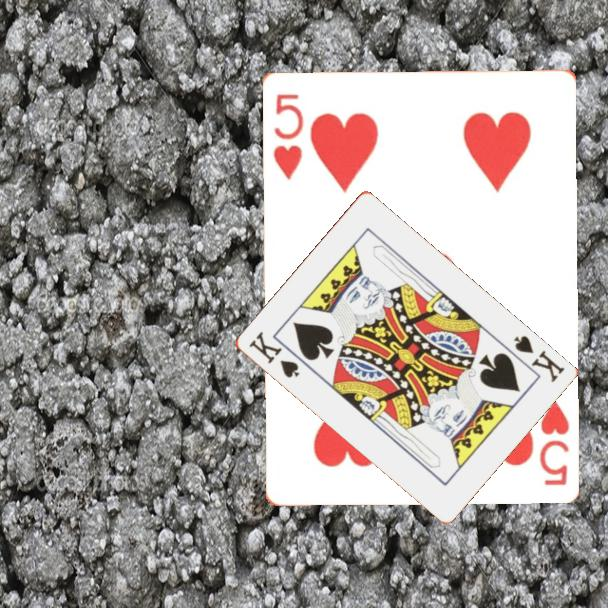h05: (269, 89, 306, 182), (536, 396, 572, 488)
s13: (245, 328, 302, 381), (510, 332, 567, 385)
